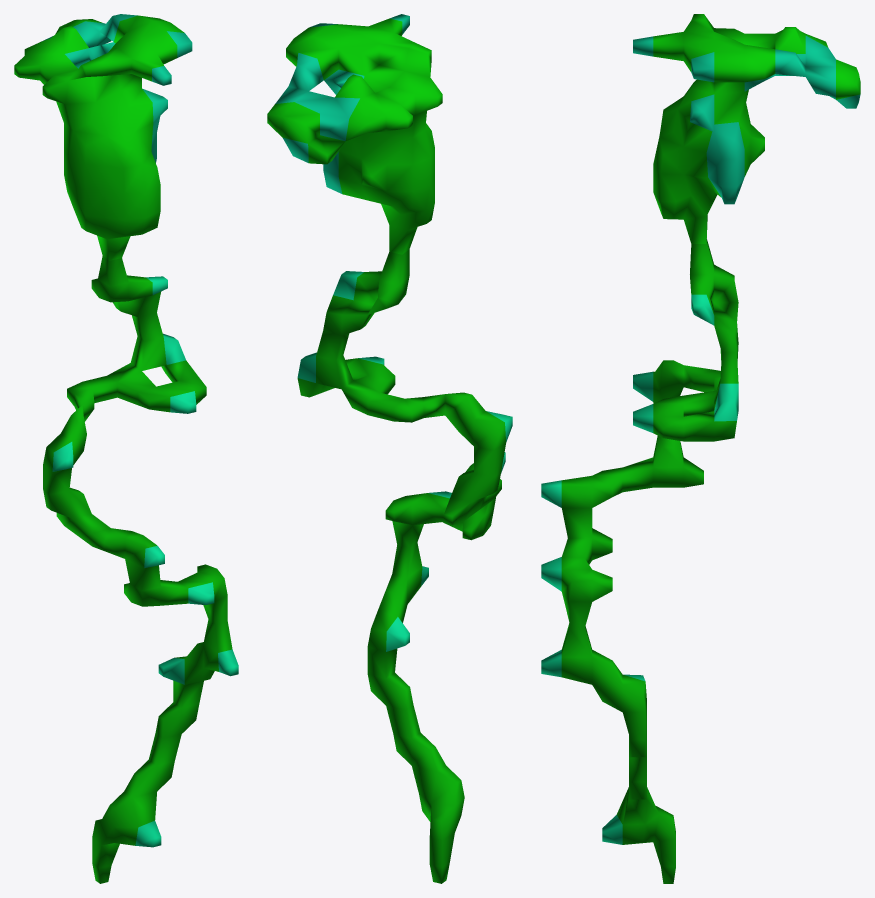
3 views of the same model, side by side, from view 1: azimuth 30°, elevation 25°; view 2: azimuth 150°, elevation 25°; view 3: azimuth 270°, elevation 25° (orthographic). The views are drawn at different scales.
Size of the model in its own units: 0.33 by 1.58 by 0.5233.
